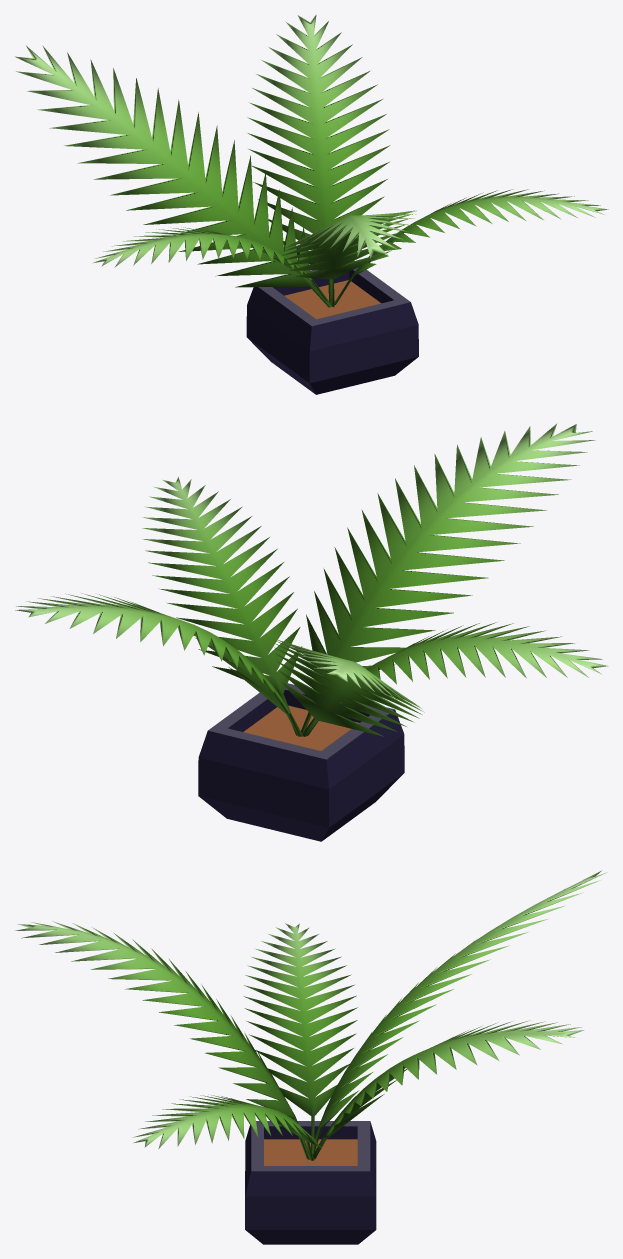
File: pfp03.fbx
3 renders of one model, top to bottom at view 1: azimuth 30°, elevation 25°; view 2: azimuth 150°, elevation 25°; view 3: azimuth 270°, elevation 25°, orthographic. The views are drawn at different scales.
Parts seen in each view (by area): view 1: pfp03; view 2: pfp03; view 3: pfp03.
Boxes of the visible parts, x1,y1,x2,y2 form: pfp03: (15, 14, 608, 394); pfp03: (15, 423, 608, 841); pfp03: (15, 870, 607, 1244).
Size of the model in its own units: 90.08 by 50.25 by 101.
